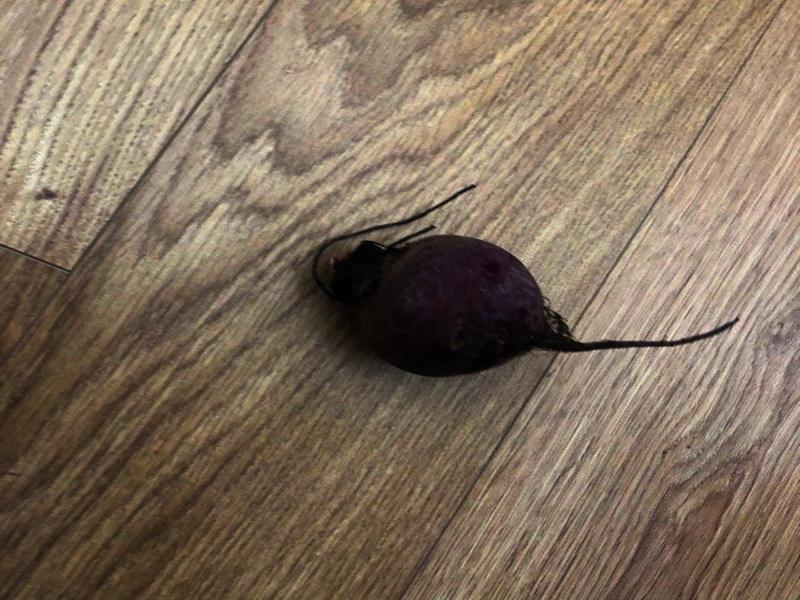Beet: (312, 185, 740, 378)
